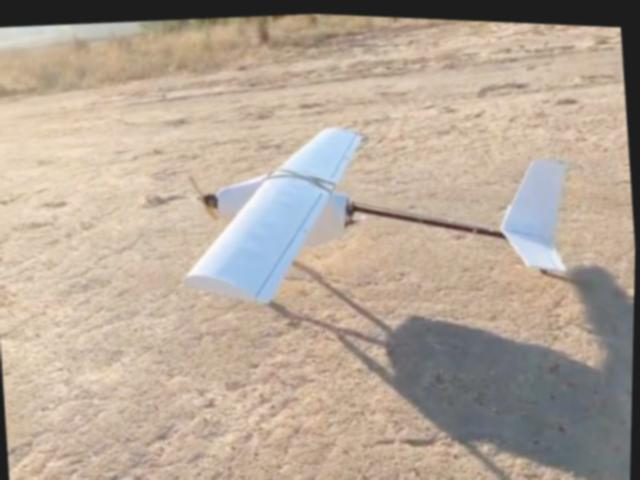uav: (169, 97, 580, 334)
